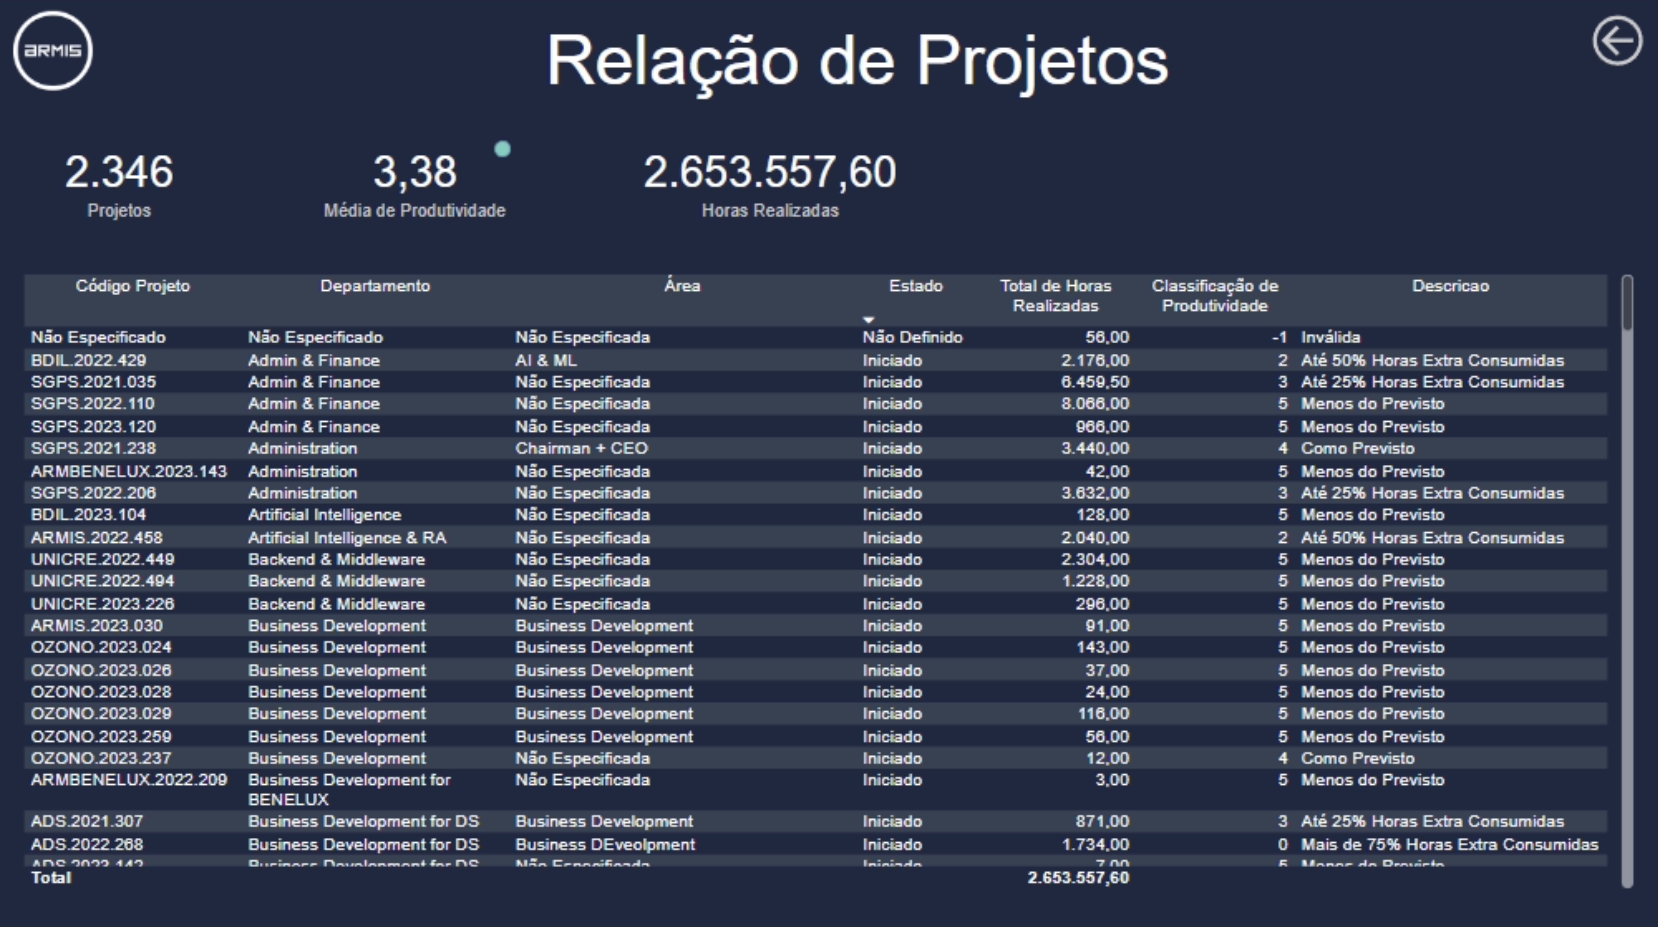

The dashboard page shown, as its layout file describes it:
{"tool":"powerbi","page":{"name":"Relação de Projetos","canvas":[1280,720],"ordinal":1},"visuals":[{"type":"tableEx","fields":{"Values":["Projeto.Codigo_Projeto","Projeto.Departamento","Projeto.Area","Estado.Estado","Produtividade de Projetos.Total Horas Realizadas","Classificação de Produtividade.Nota","Classificação de Produtividade.Descricao"]},"box":[16.6,209,1248.2,481.6],"z":0},{"type":"image","box":[5.1,6.4,77.8,71.4],"z":1000},{"type":"textbox","box":[408,14,510,77.8],"z":2000},{"type":"card","fields":{"Values":["Produtividade de Projetos.Média das Classificações de Projetos"]},"box":[229.5,100.5,187.4,81.6],"z":3000},{"type":"card","fields":{"Values":["Produtividade de Projetos.Número de Projetos"]},"box":[16.6,101,157.8,81.6],"z":4000},{"type":"card","fields":{"Values":["Produtividade de Projetos.Horas Realizadas (Projeto)"]},"box":[472.1,100.5,248.6,81.6],"z":5000},{"type":"actionButton","box":[1223.3,0,49.8,67.8],"z":6000},{"type":"shape","box":[383.7,110.9,12.7,12.7],"z":6501}]}

Visuals, with their boxes in screenshot pixels (x1, y1, x2, y2), scaled from the page's 1280x720 canvas onto the 1658x927 screenshot:
tableEx - Projeto.Codigo_Projeto x Projeto.Departamento: box(22, 269, 1638, 889)
image: box(7, 8, 107, 100)
textbox: box(528, 18, 1189, 118)
card - Produtividade de Projetos.Média das Classificações de Projetos: box(297, 129, 540, 234)
card - Produtividade de Projetos.Número de Projetos: box(22, 130, 226, 235)
card - Produtividade de Projetos.Horas Realizadas (Projeto): box(612, 129, 934, 234)
actionButton: box(1585, 0, 1649, 87)
shape: box(497, 143, 513, 159)
